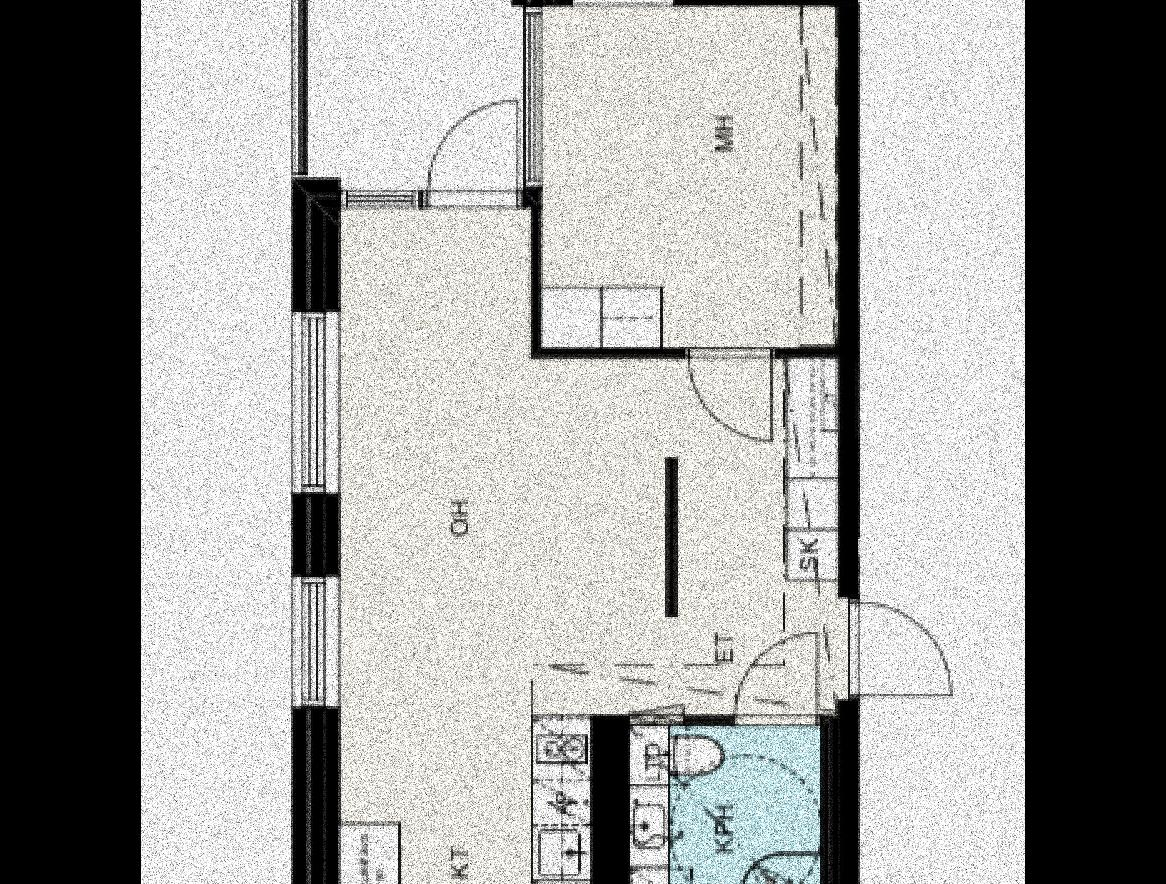door: (423, 88, 522, 218), (847, 593, 961, 697), (687, 340, 778, 454), (734, 630, 825, 738)
window: (333, 208, 842, 884), (537, 0, 847, 353), (619, 725, 823, 884), (290, 314, 338, 491), (292, 576, 339, 710), (522, 4, 545, 187), (344, 191, 424, 209)
